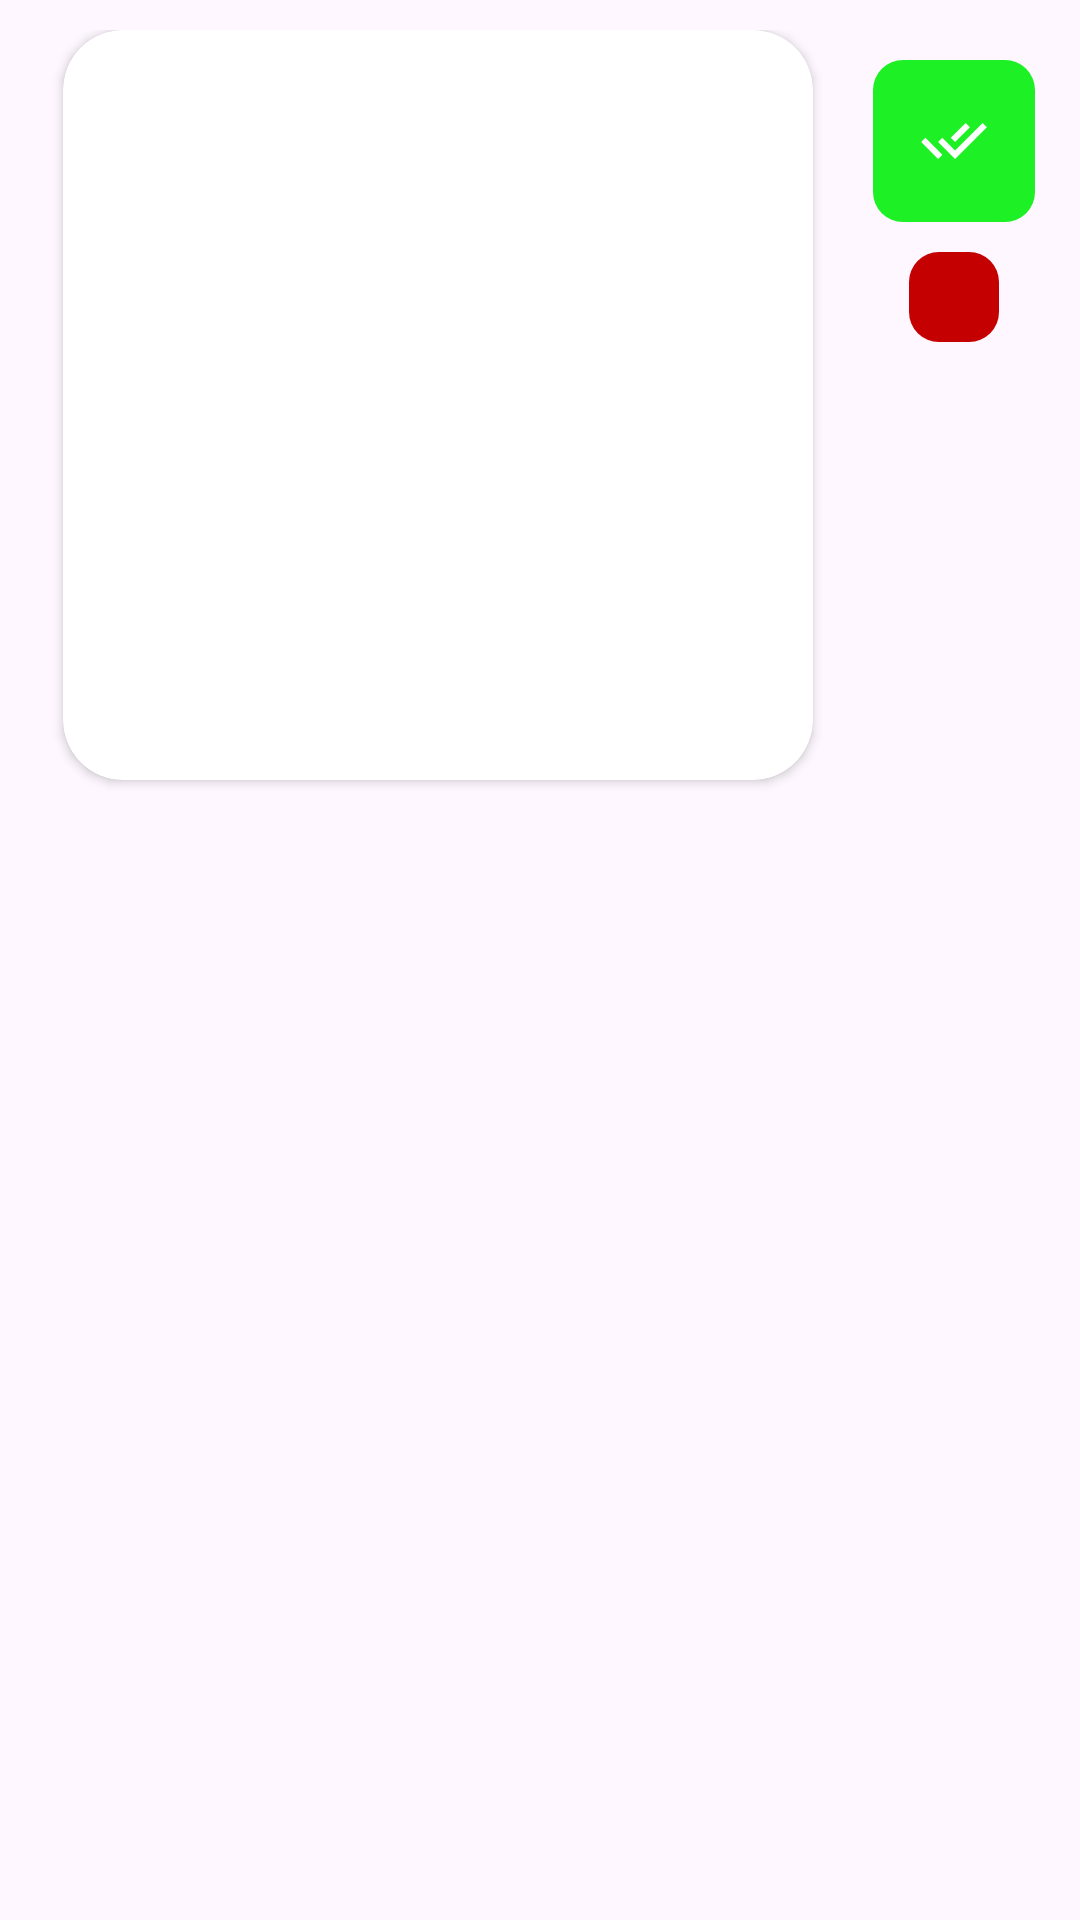

Icon bounding boxes for this 1080 × 1920 phone screenshot, format {"left": x1, "top": y1, "right": x2, "bottom": y2}:
done all: {"left": 873, "top": 60, "right": 1035, "bottom": 222}
